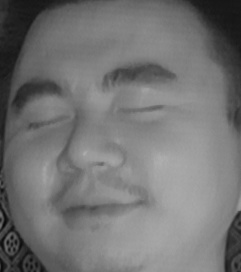blink: (116, 95, 165, 128), (26, 108, 70, 138)
mouth: (54, 178, 143, 231)
